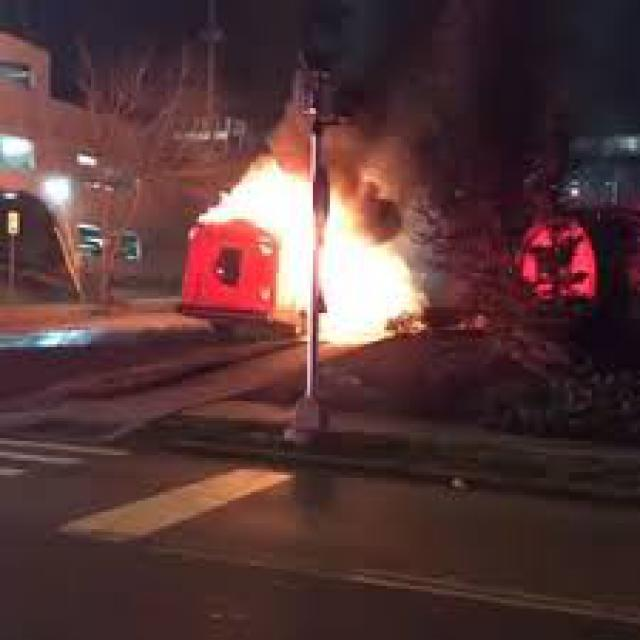Fire: (186, 140, 430, 396)
